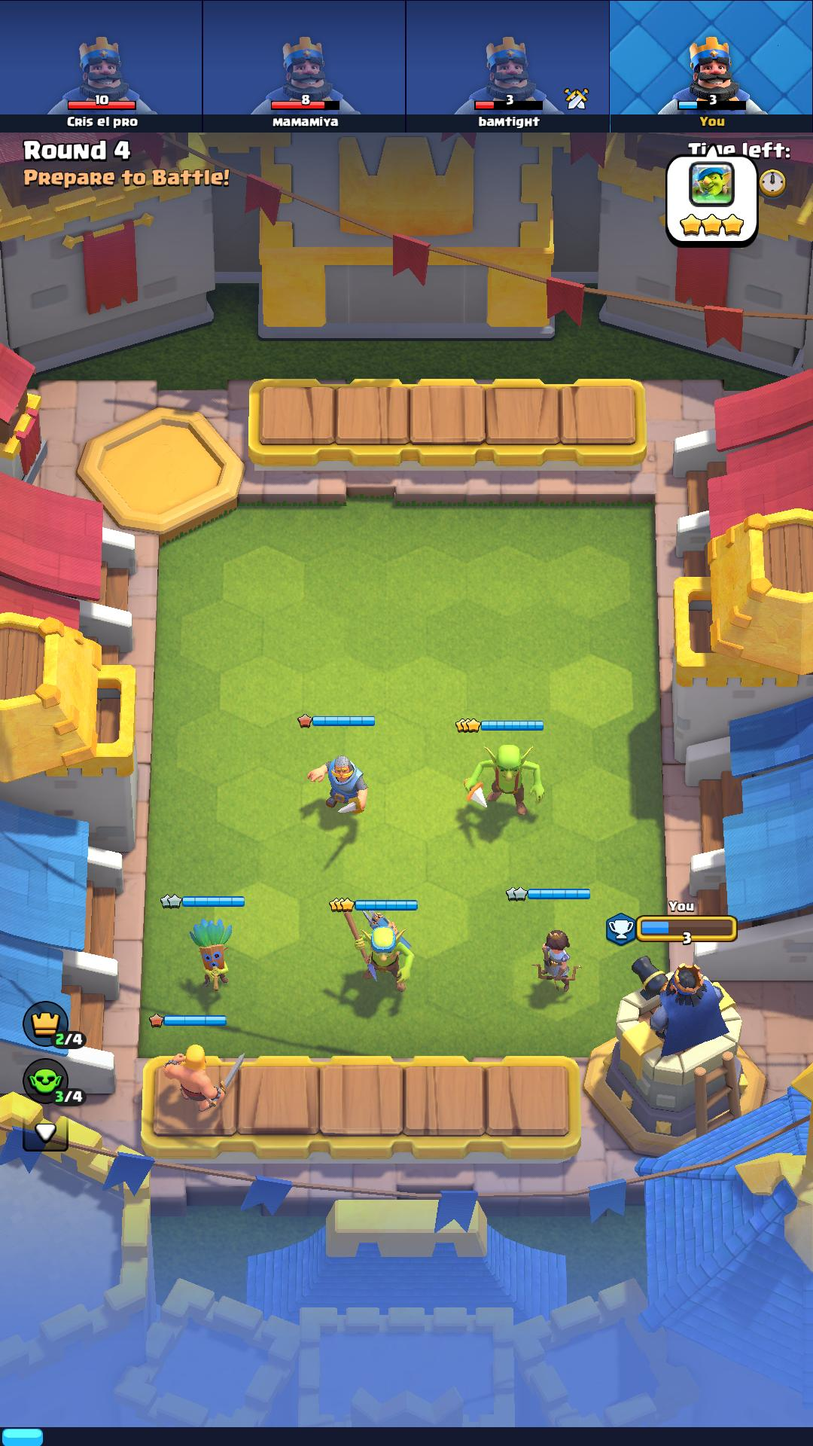barbarian: (154, 1041, 250, 1116)
dart: (182, 913, 239, 991)
goblin: (453, 740, 552, 819)
knight: (301, 751, 374, 814)
princess: (522, 917, 584, 992)
spear: (333, 909, 424, 997)
